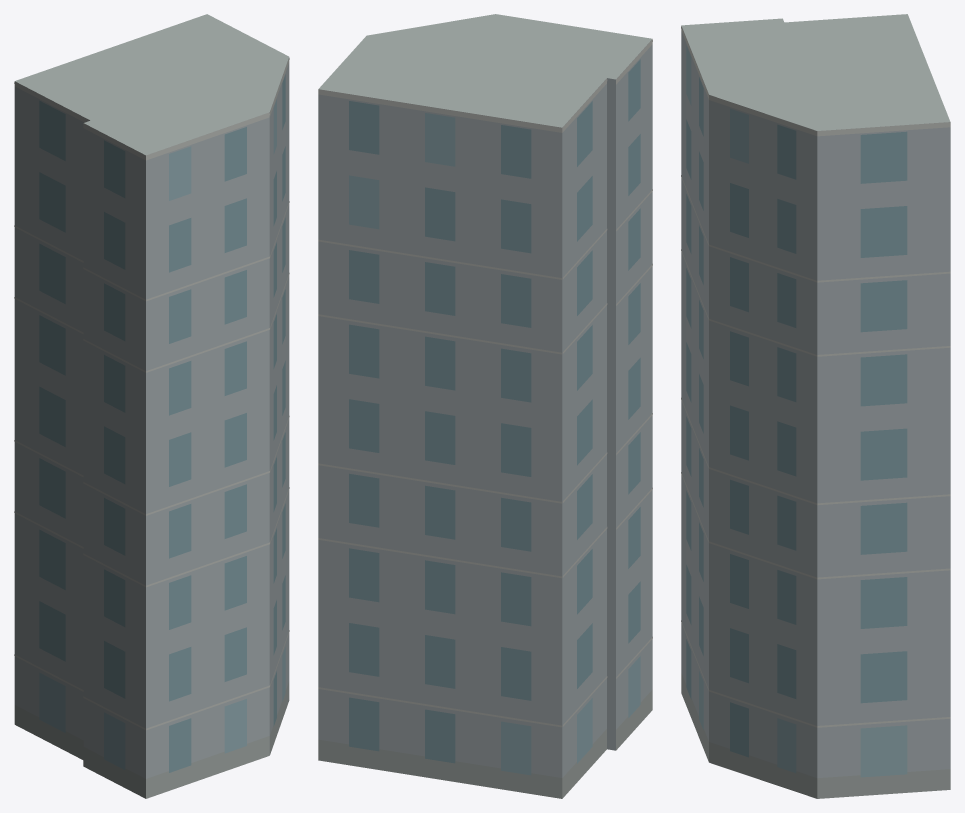
The model's file is survey-upis-32626171.glb.
3 views of the same model, side by side, from view 1: azimuth 30°, elevation 25°; view 2: azimuth 150°, elevation 25°; view 3: azimuth 270°, elevation 25° (orthographic). The views are drawn at different scales.
Parts seen in each view (by area): view 1: survey-upis-32626171.tmp; view 2: survey-upis-32626171.tmp; view 3: survey-upis-32626171.tmp.
Part boxes in pixels (bbox=[...]): survey-upis-32626171.tmp: bbox=[14, 14, 289, 798]; survey-upis-32626171.tmp: bbox=[318, 14, 652, 798]; survey-upis-32626171.tmp: bbox=[681, 14, 950, 798].
Size of the model in its own units: 11.6 by 30.8 by 11.28.
